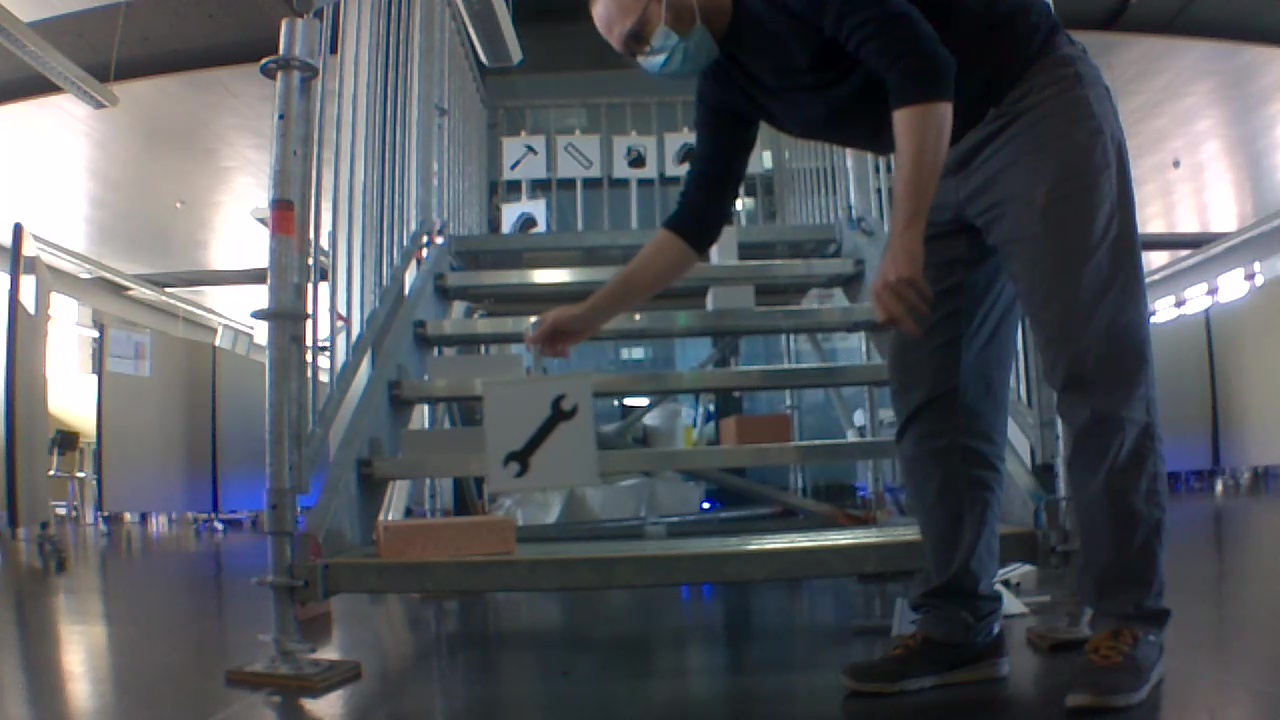brick: (374, 517, 515, 561), (428, 352, 523, 380), (400, 428, 482, 460), (718, 412, 792, 444), (705, 286, 754, 308)
bucket: (616, 139, 652, 172)
hammer: (503, 141, 541, 174)
ruler: (561, 138, 597, 174)
taco: (502, 207, 540, 233)
wrench: (499, 389, 582, 483)
